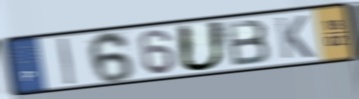6: (86, 29, 137, 84), (137, 29, 177, 76)
B: (222, 18, 273, 68)
I: (56, 37, 76, 87)
K: (273, 14, 316, 61)
U: (175, 20, 228, 74)
